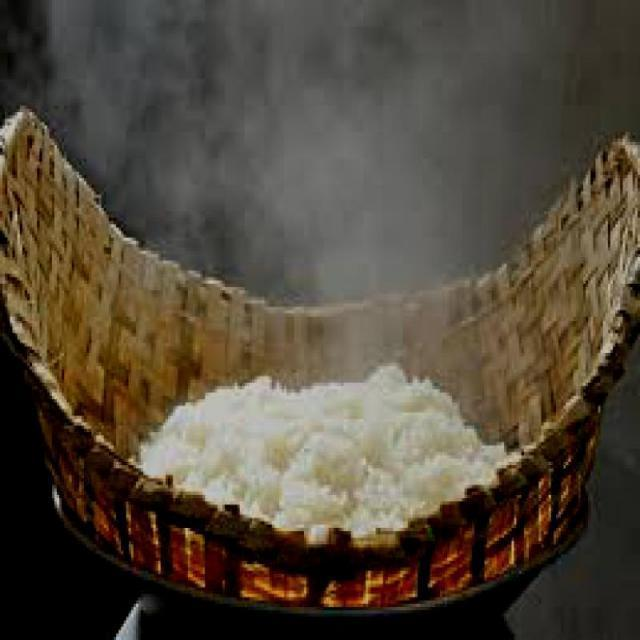Chicken -Chicken Inasal-: (140, 365, 512, 532)
